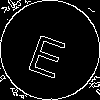E: (25, 25, 72, 80)
